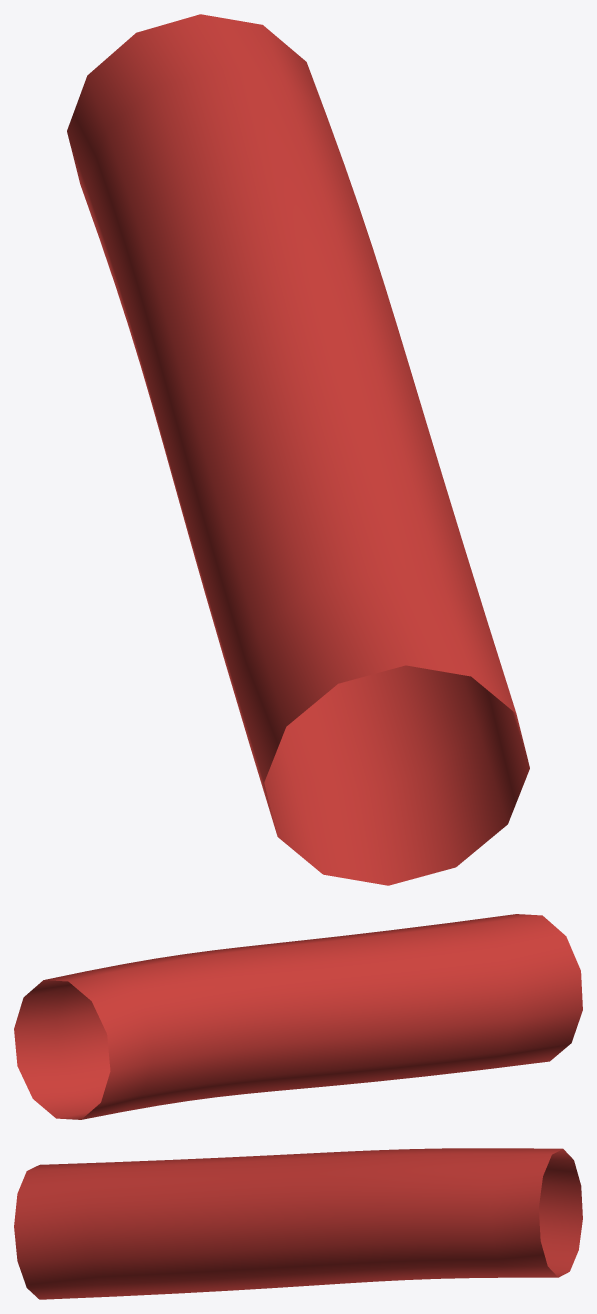
3 renders of one model, top to bottom at view 1: azimuth 30°, elevation 25°; view 2: azimuth 150°, elevation 25°; view 3: azimuth 270°, elevation 25°, orthographic. The views are drawn at different scales.
Visible parts, largest first — view 1: 左侧骨间总动脉; view 2: 左侧骨间总动脉; view 3: 左侧骨间总动脉.
Boxes of the visible parts, left/top/right/bottom form: 左侧骨间总动脉: left=67, top=14, right=529, bottom=885; 左侧骨间总动脉: left=14, top=914, right=582, bottom=1119; 左侧骨间总动脉: left=14, top=1148, right=582, bottom=1299.
Bounding box in the file's own units: 0.00739 × 0.00567 × 0.0136.
